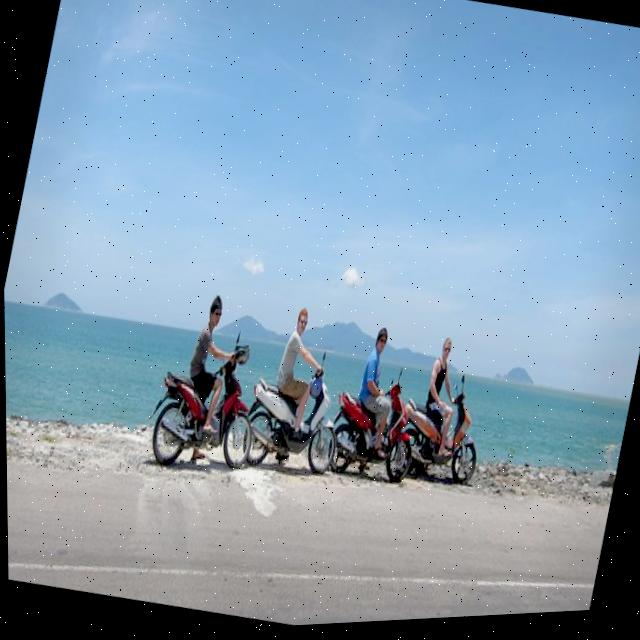motorcycle: (138, 332, 275, 483), (233, 354, 353, 487), (389, 375, 498, 495), (322, 372, 424, 490)
